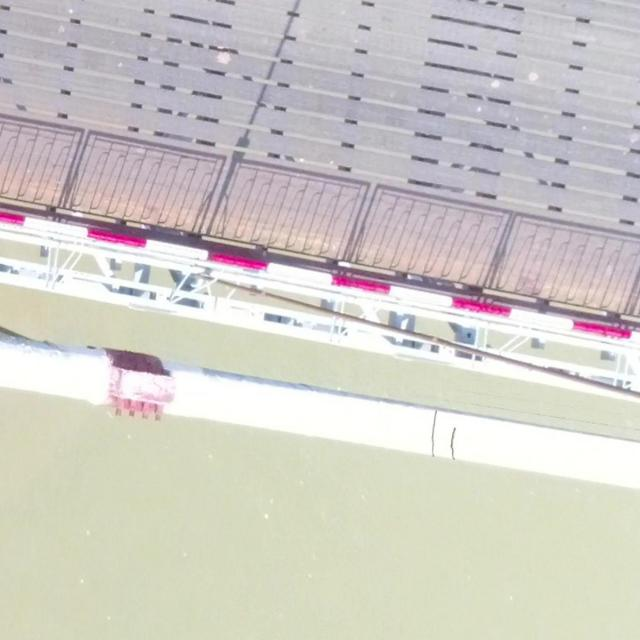crack: (431, 410, 437, 457), (449, 428, 456, 459)
